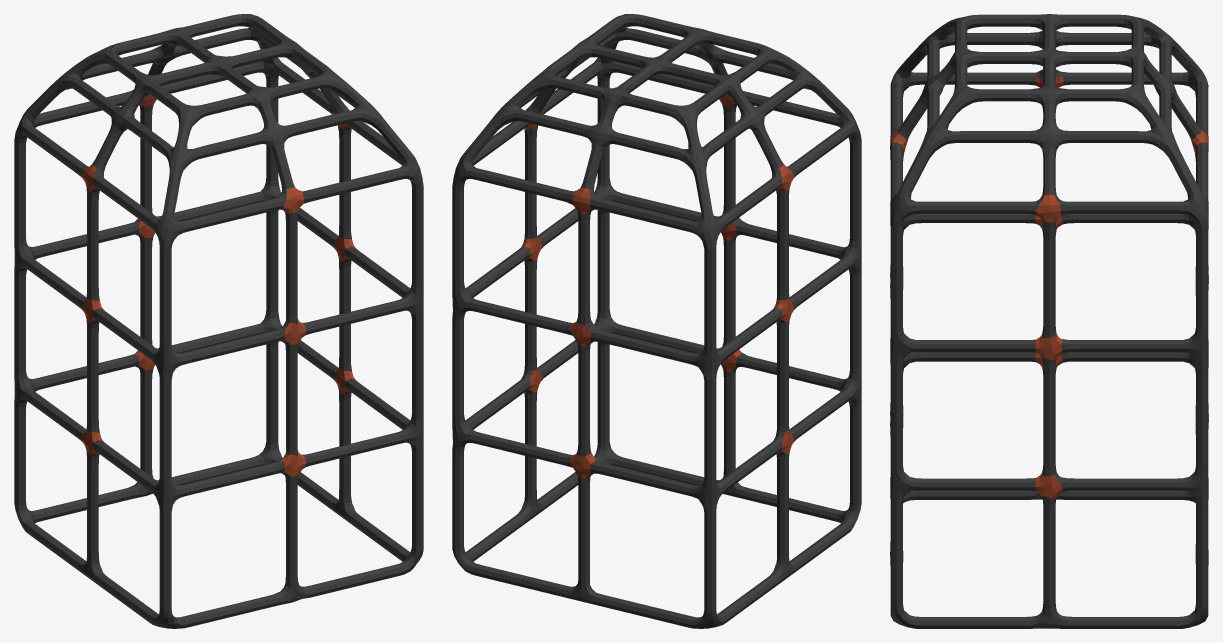
The model's file is advanced_cage.fbx.
3 renders of one model, left to right at view 1: azimuth 30°, elevation 25°; view 2: azimuth 150°, elevation 25°; view 3: azimuth 270°, elevation 25°, orthographic. The views are drawn at different scales.
Visible parts, largest first — view 1: Cube; view 2: Cube; view 3: Cube.
Boxes of the visible parts, left/top/right/bottom form: Cube: left=14, top=14, right=423, bottom=628; Cube: left=452, top=14, right=861, bottom=628; Cube: left=890, top=14, right=1208, bottom=628.
Size of the model in its own units: 1168 by 1169 by 2072.
